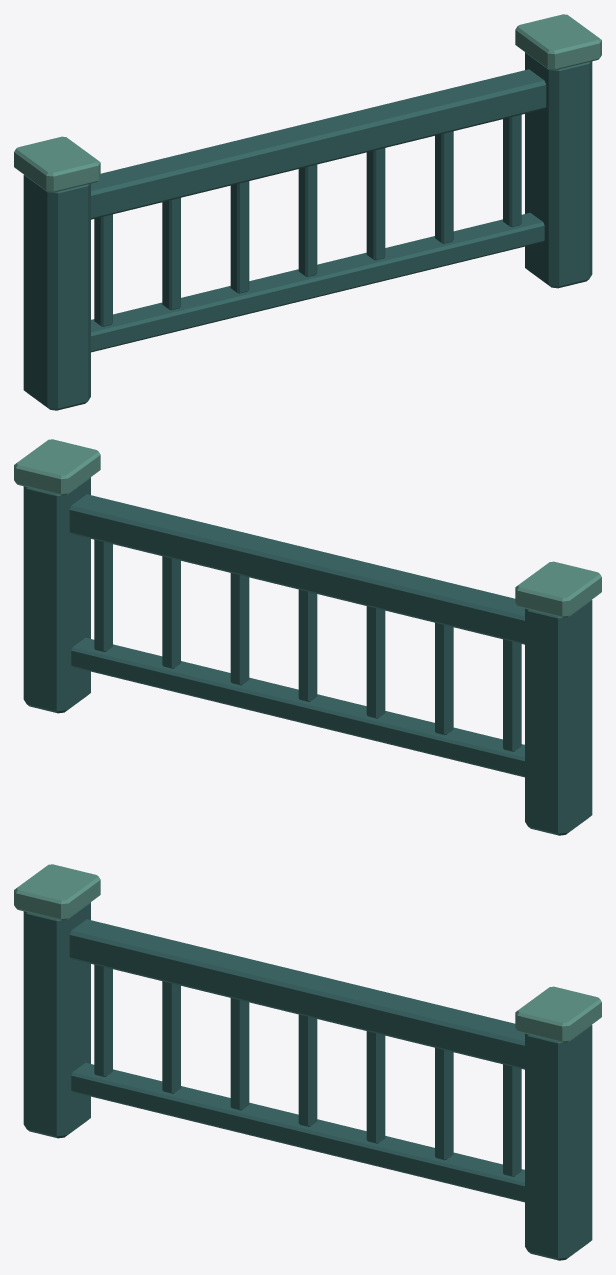
Rendered from railing-straight.glb.
3 renders of one model, top to bottom at view 1: azimuth 30°, elevation 25°; view 2: azimuth 150°, elevation 25°; view 3: azimuth 330°, elevation 25°, orthographic.
Visible parts, largest first — view 1: railing-straight__body; view 2: railing-straight__body; view 3: railing-straight__body.
Boxes of the visible parts, x1=… form: railing-straight__body: x1=14, y1=14, x2=601, y2=410; railing-straight__body: x1=14, y1=439, x2=601, y2=835; railing-straight__body: x1=14, y1=864, x2=601, y2=1260.
Size of the model in its own units: 2.04 by 0.85 by 0.24.
